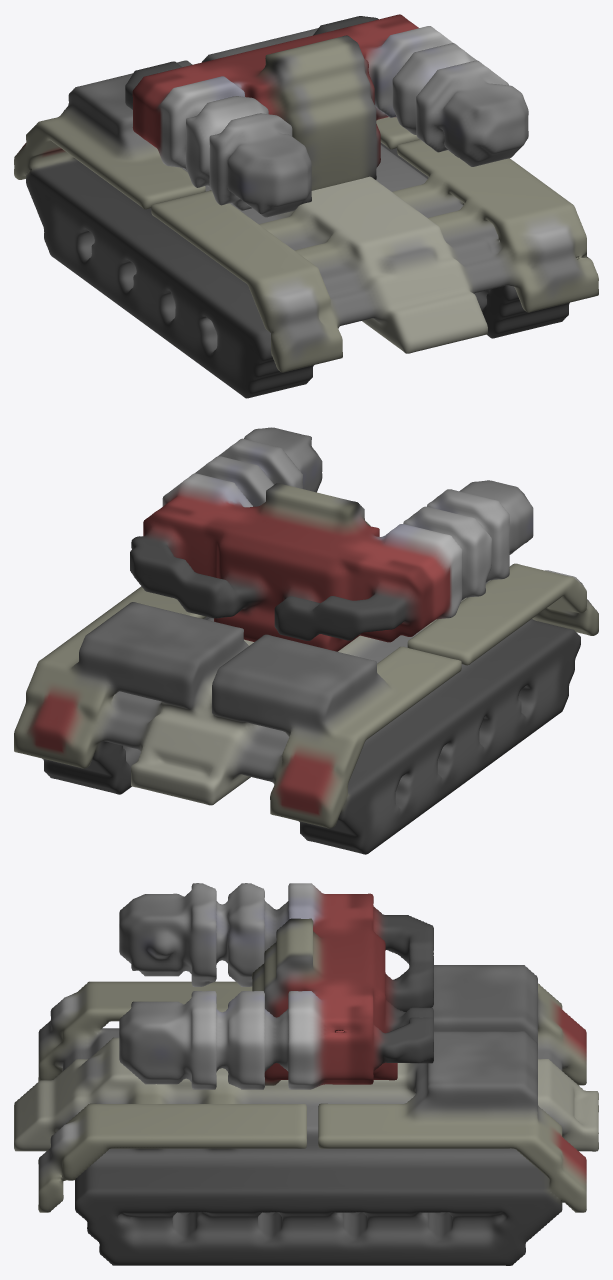
Rendered from tesla_tank.glb.
3 renders of one model, top to bottom at view 1: azimuth 30°, elevation 25°; view 2: azimuth 150°, elevation 25°; view 3: azimuth 270°, elevation 25°, orthographic.
Parts seen in each view (by area): view 1: tesla_tank; view 2: tesla_tank; view 3: tesla_tank.
Boxes of the visible parts, x1,y1,x2,y2 form: tesla_tank: (14,14,598,398); tesla_tank: (14,427,598,854); tesla_tank: (14,883,598,1265).
Size of the model in its own units: 2.52 by 1.85 by 3.93.
